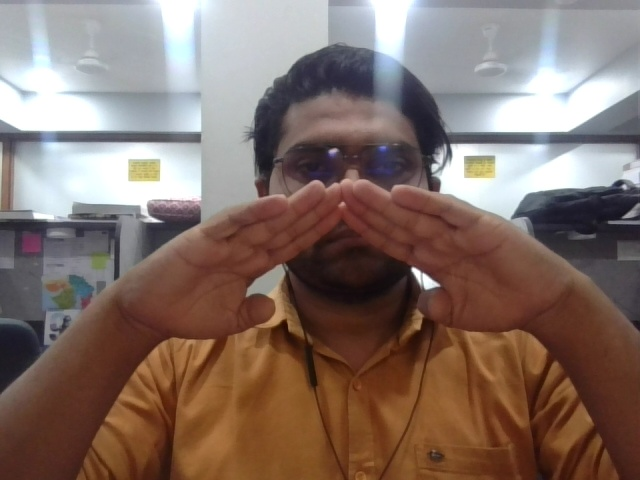ThankYou: (149, 175, 533, 343)
